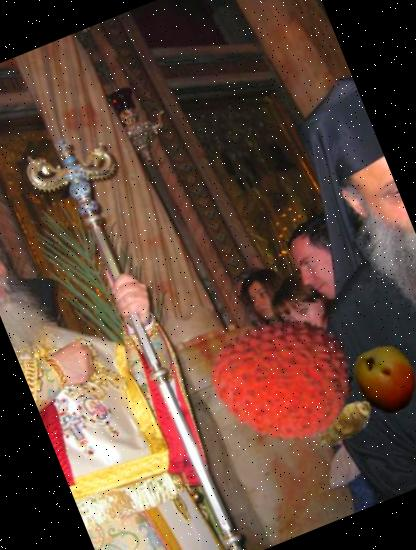Ginger: (304, 381, 388, 466)
Lychee: (186, 284, 376, 474)
Papaya: (339, 333, 416, 425)
